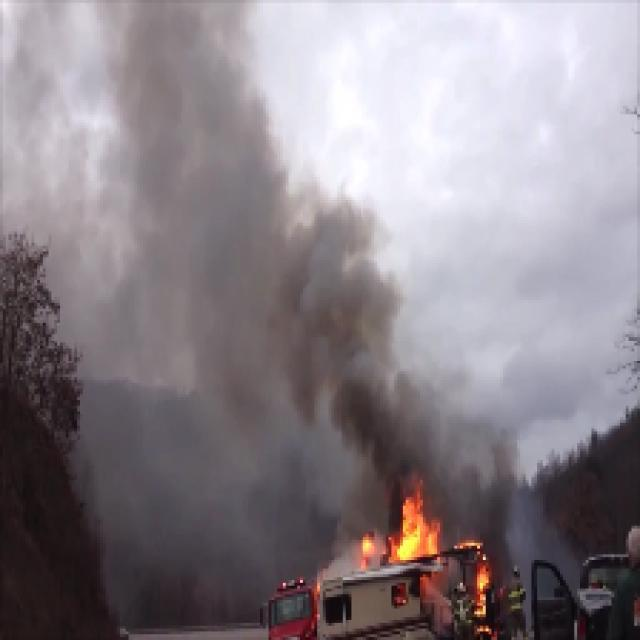Fire: (392, 500, 435, 564)
Smoke: (129, 79, 278, 319), (214, 337, 420, 470)
